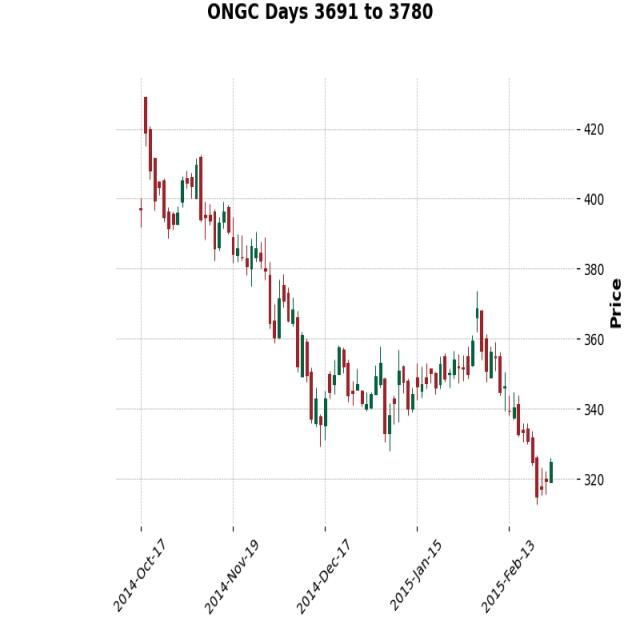Descending Triangle: (448, 270, 543, 512)
